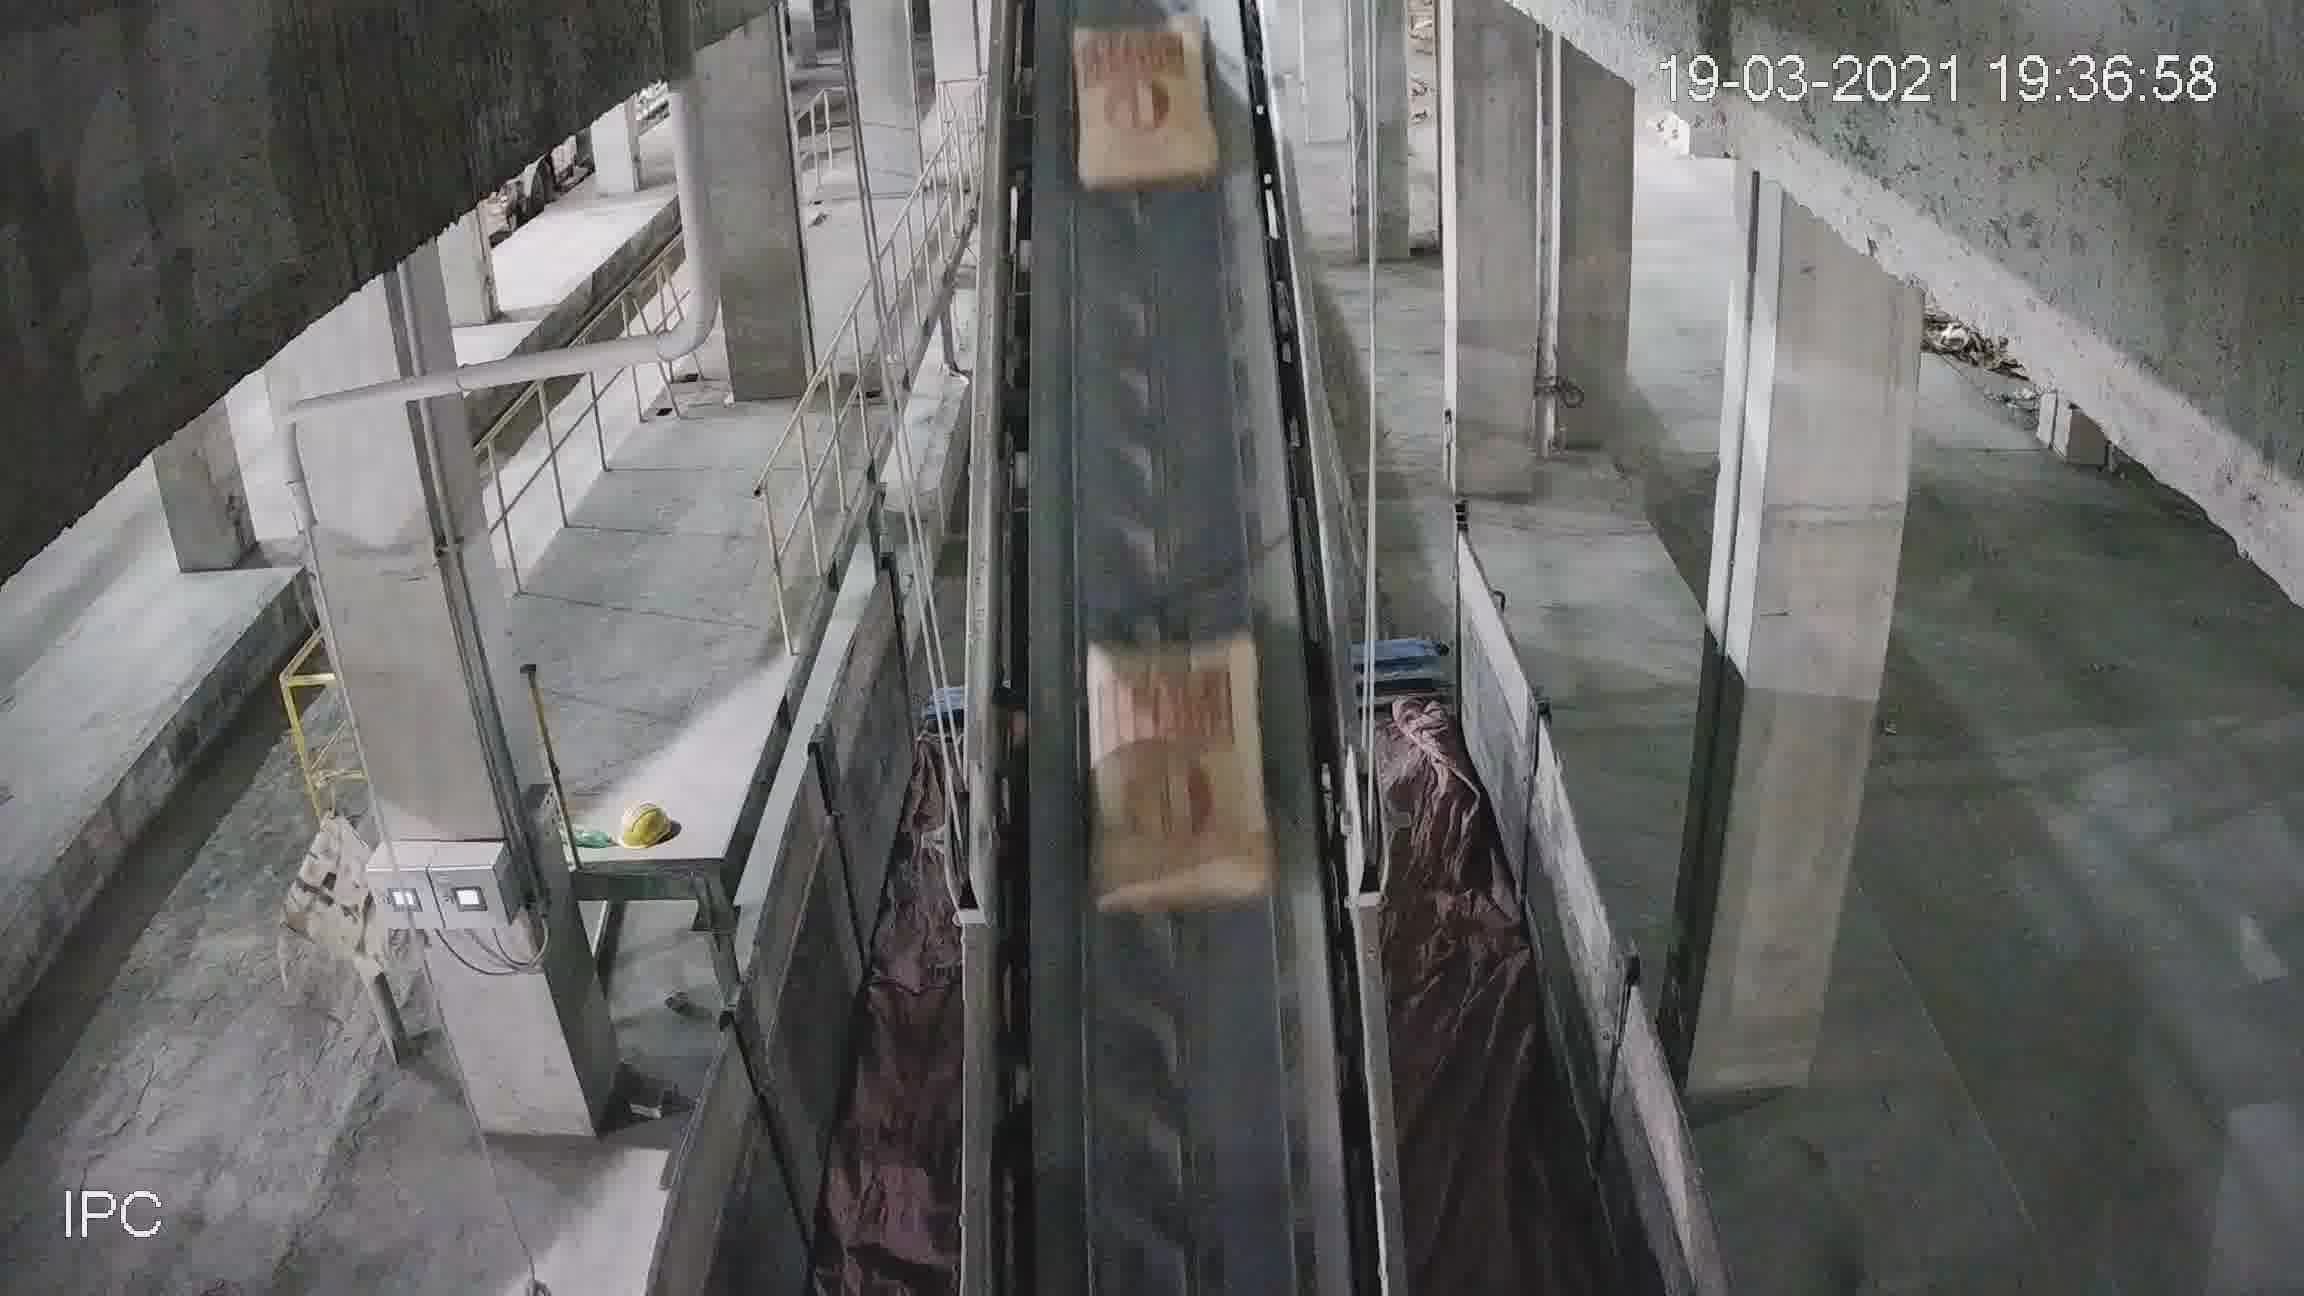bag: (1090, 628, 1266, 911), (1078, 28, 1218, 185)
belt: (964, 87, 1378, 1169)
